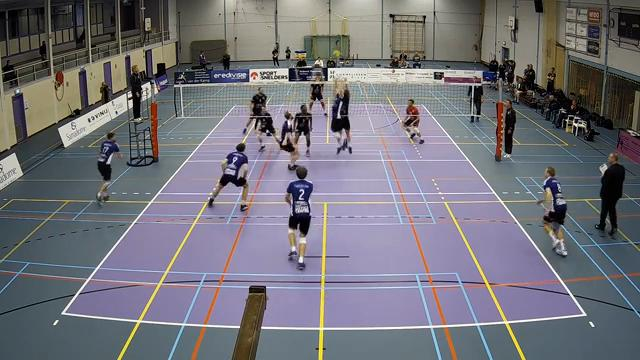muro: (328, 74, 356, 157)
